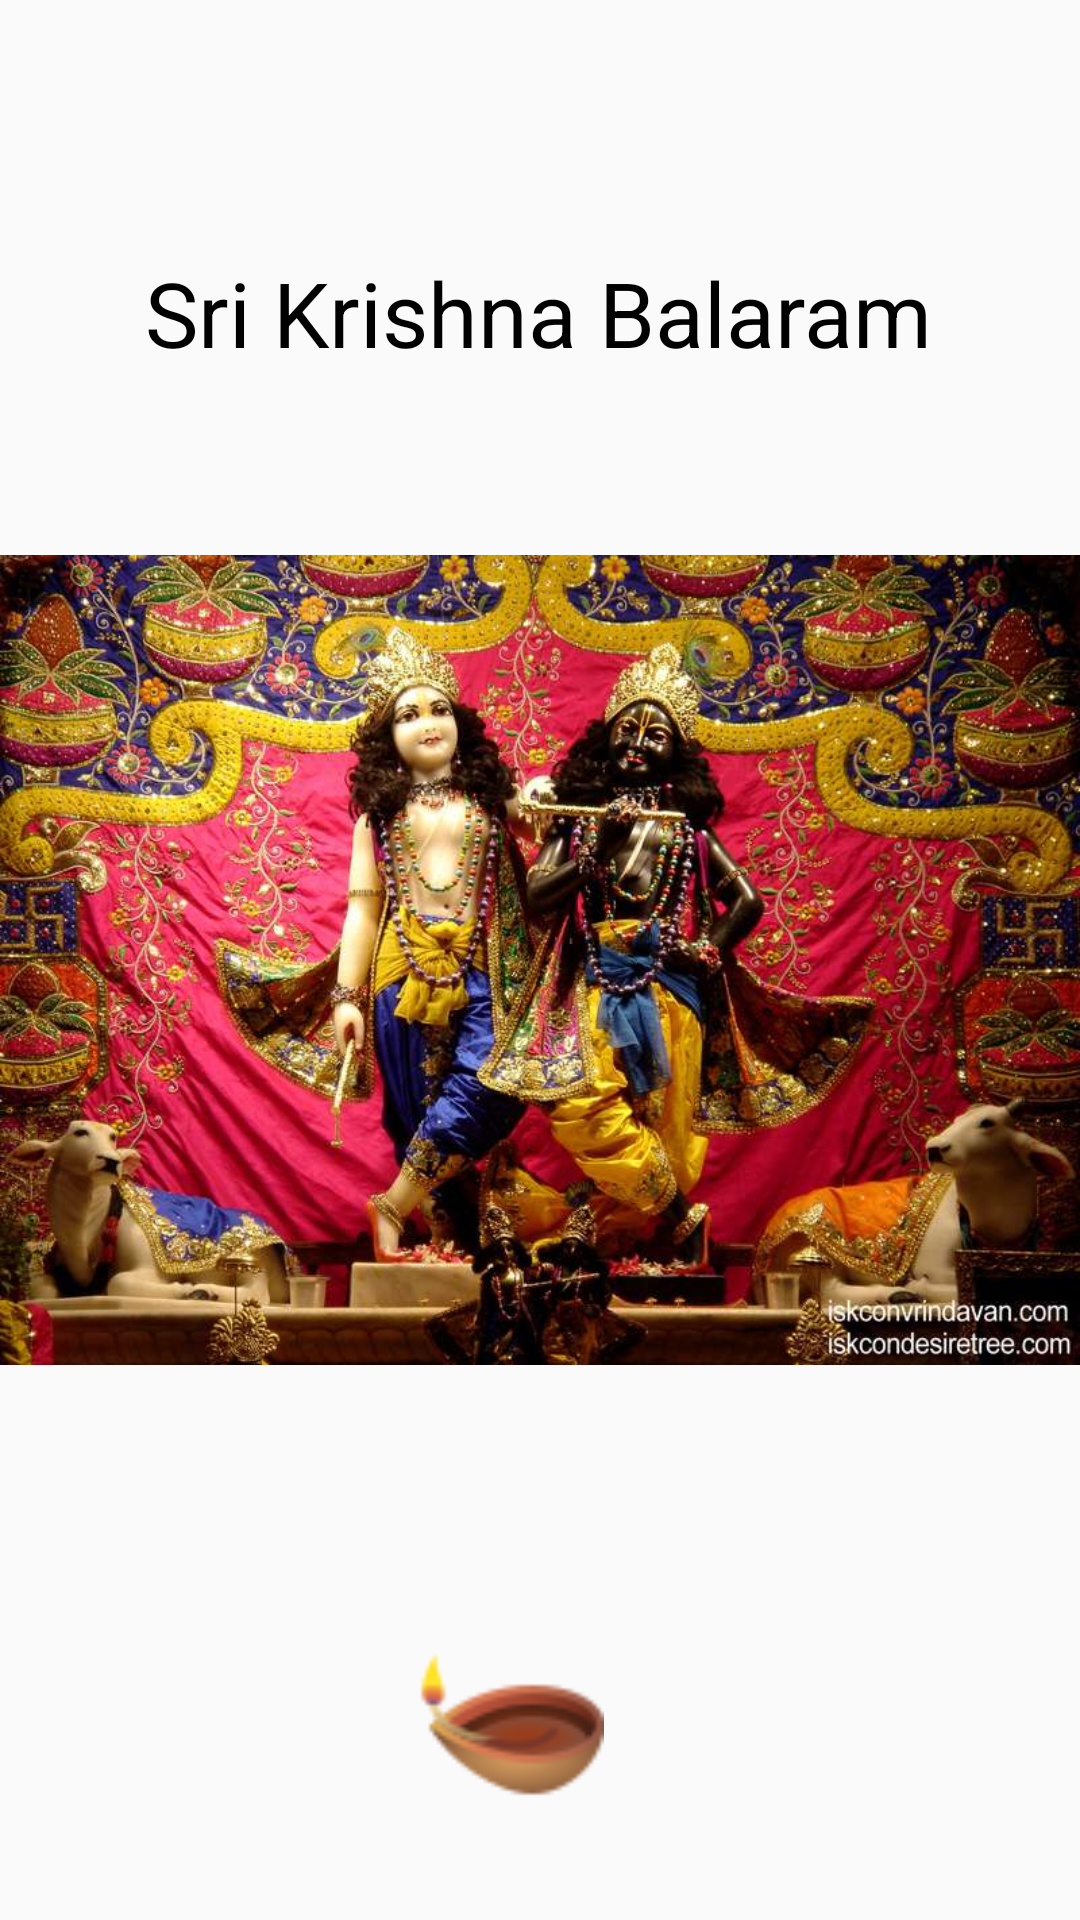

Icon bounding boxes for this 1080x1920 phone screenshot, format (x1, y1, x2, y2):
diya: (421, 1654, 604, 1795)
